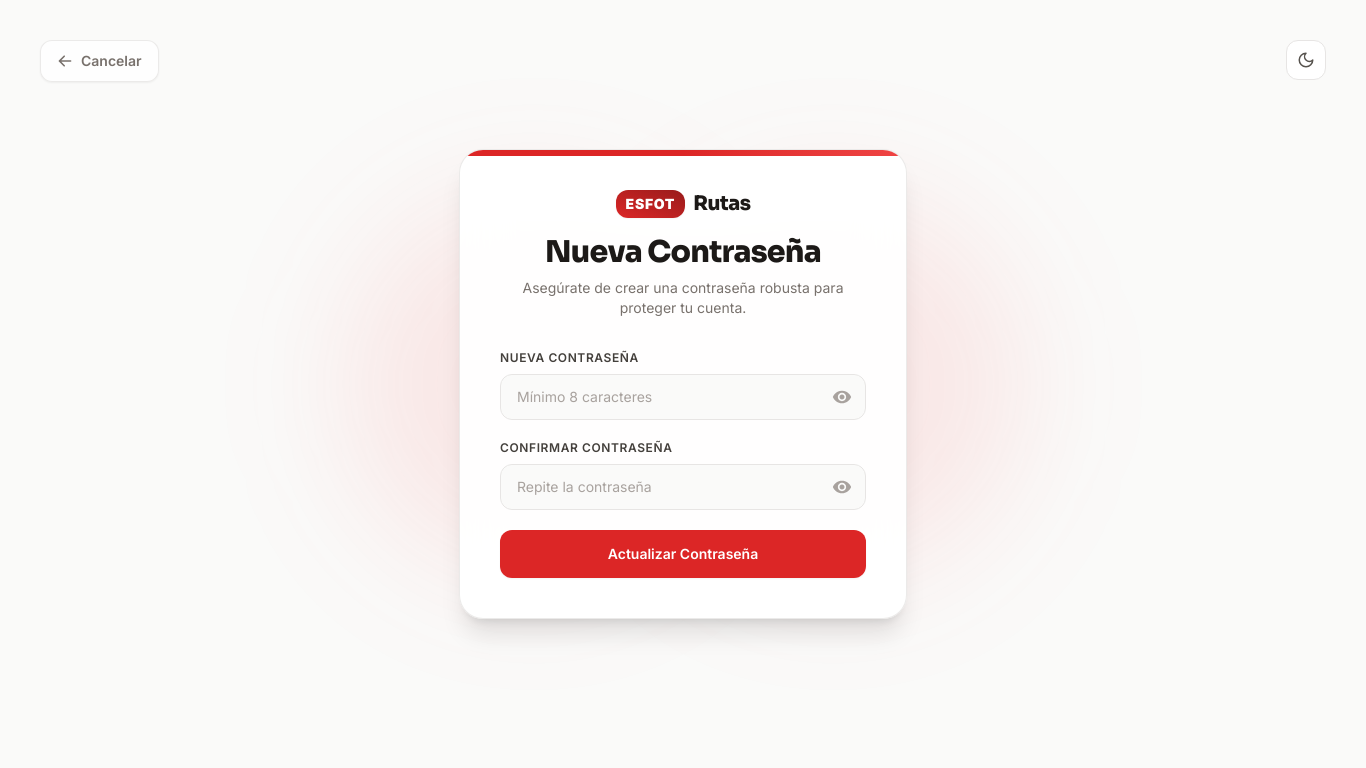
Test case: Reset — feedback dentro de la tarjeta › muestra el error del backend dentro del formulario y no como toast
The width and height of the screenshot is (1366, 768).
In the password field with placeholder "Mínimo 8 caracteres": (683, 397) [500, 374, 866, 420], type "NuevaClave123"
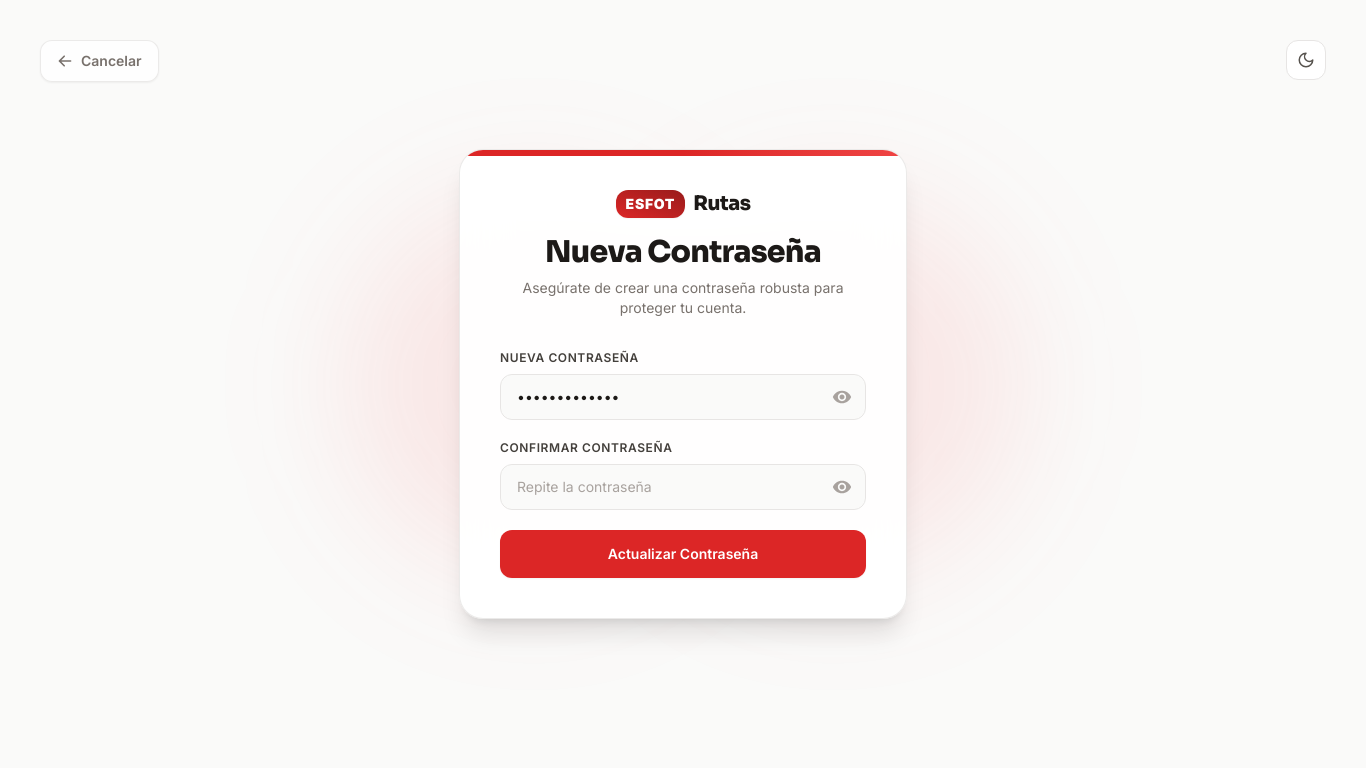
In the password field with placeholder "Repite la contraseña": (683, 487) [500, 464, 866, 510], type "NuevaClave123"
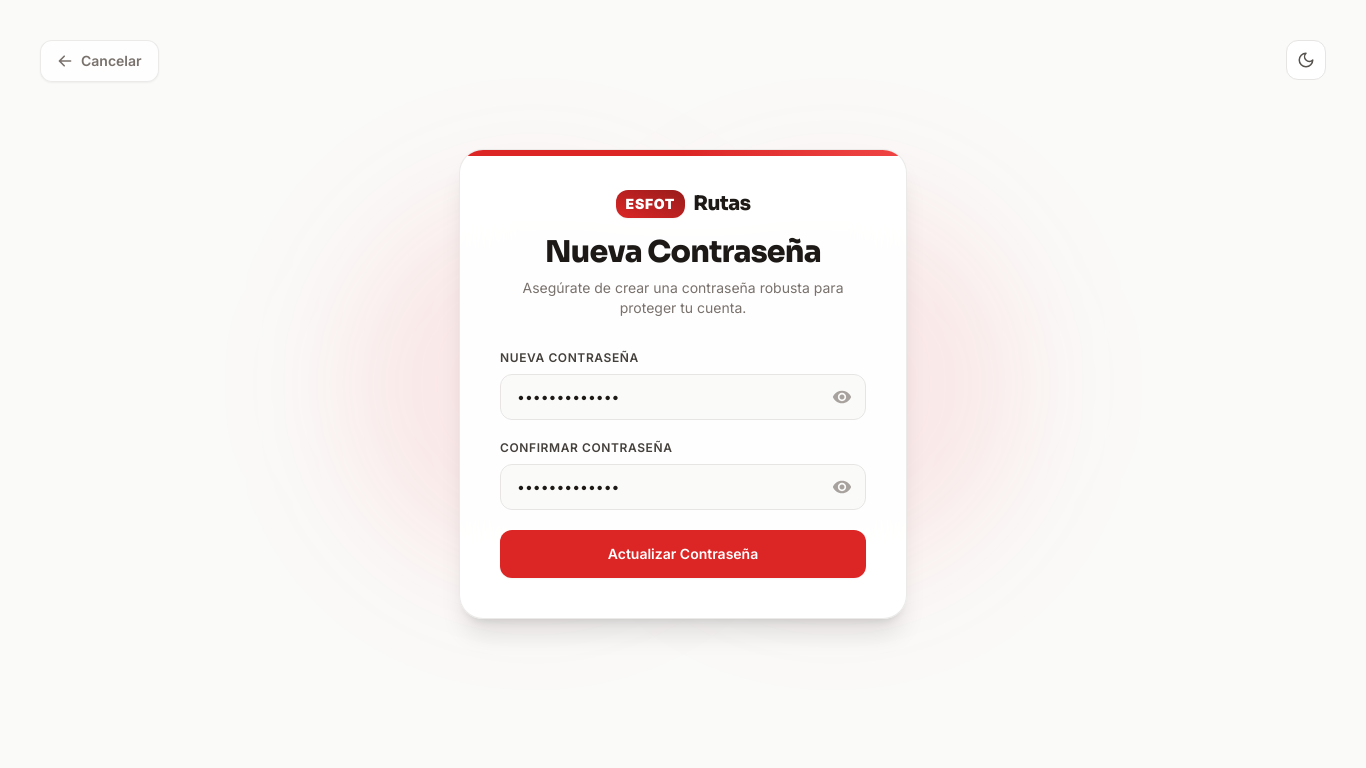
Click the button "Actualizar Contraseña": (683, 554) [500, 530, 866, 578]
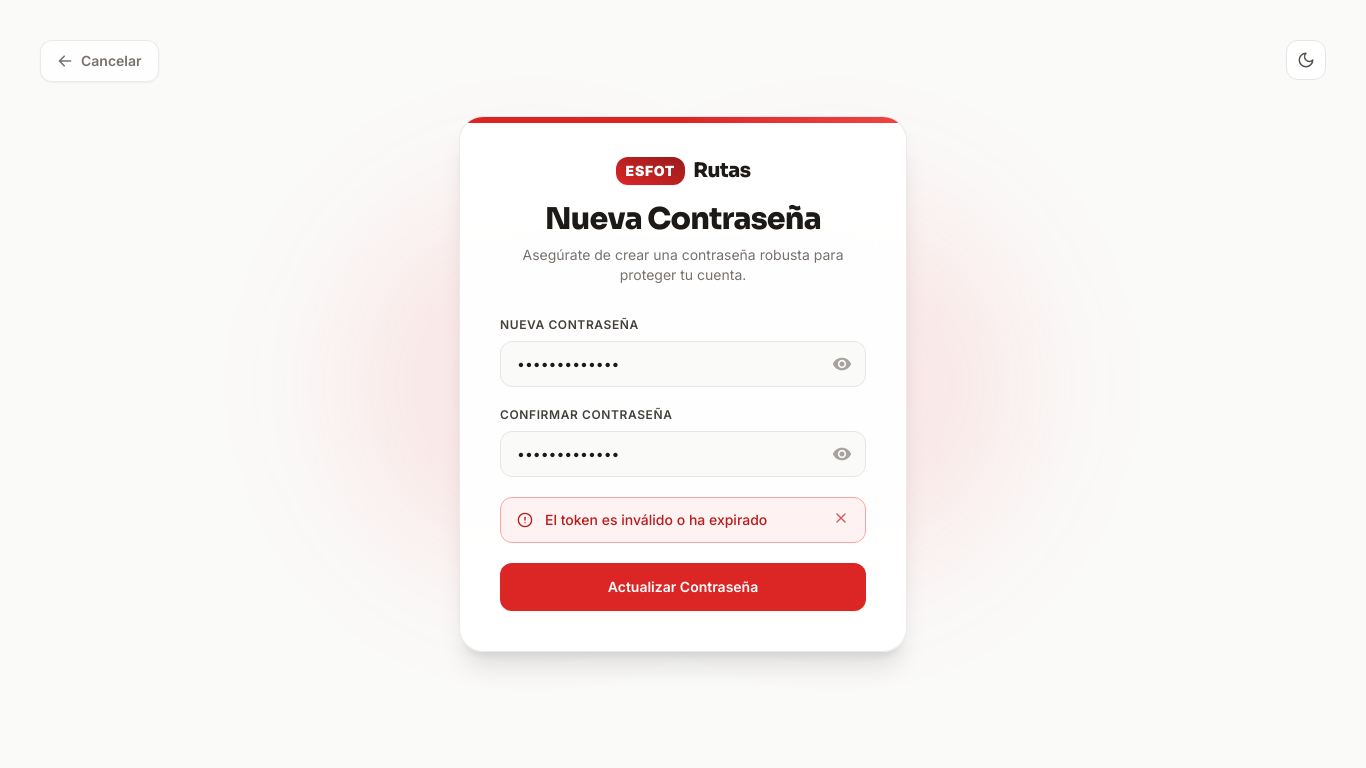
Now the message reads "El token es inválido o ha expirado", box [545, 511, 767, 528]
